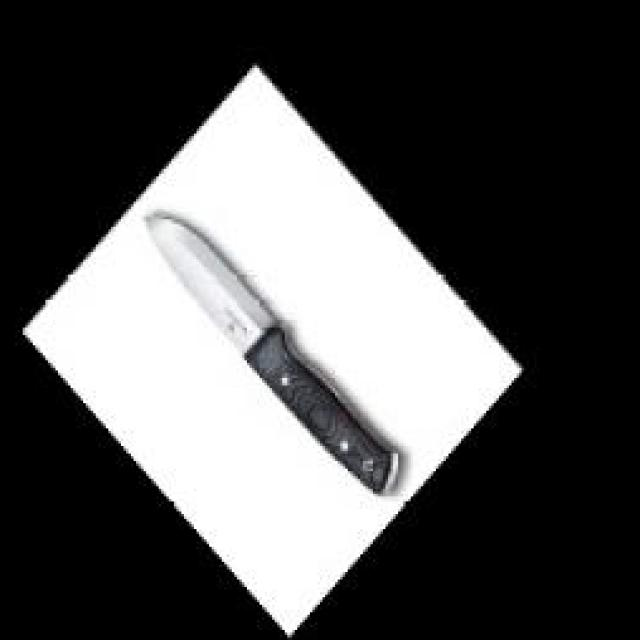knife: (136, 204, 408, 502)
